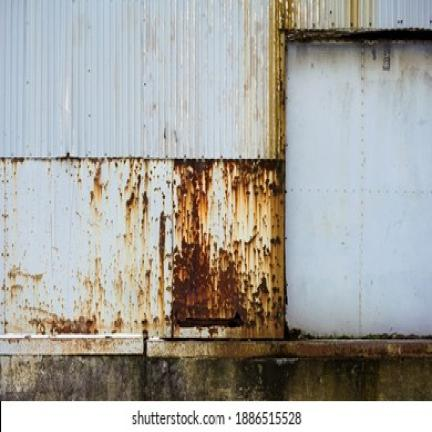karat: (168, 0, 431, 362)
